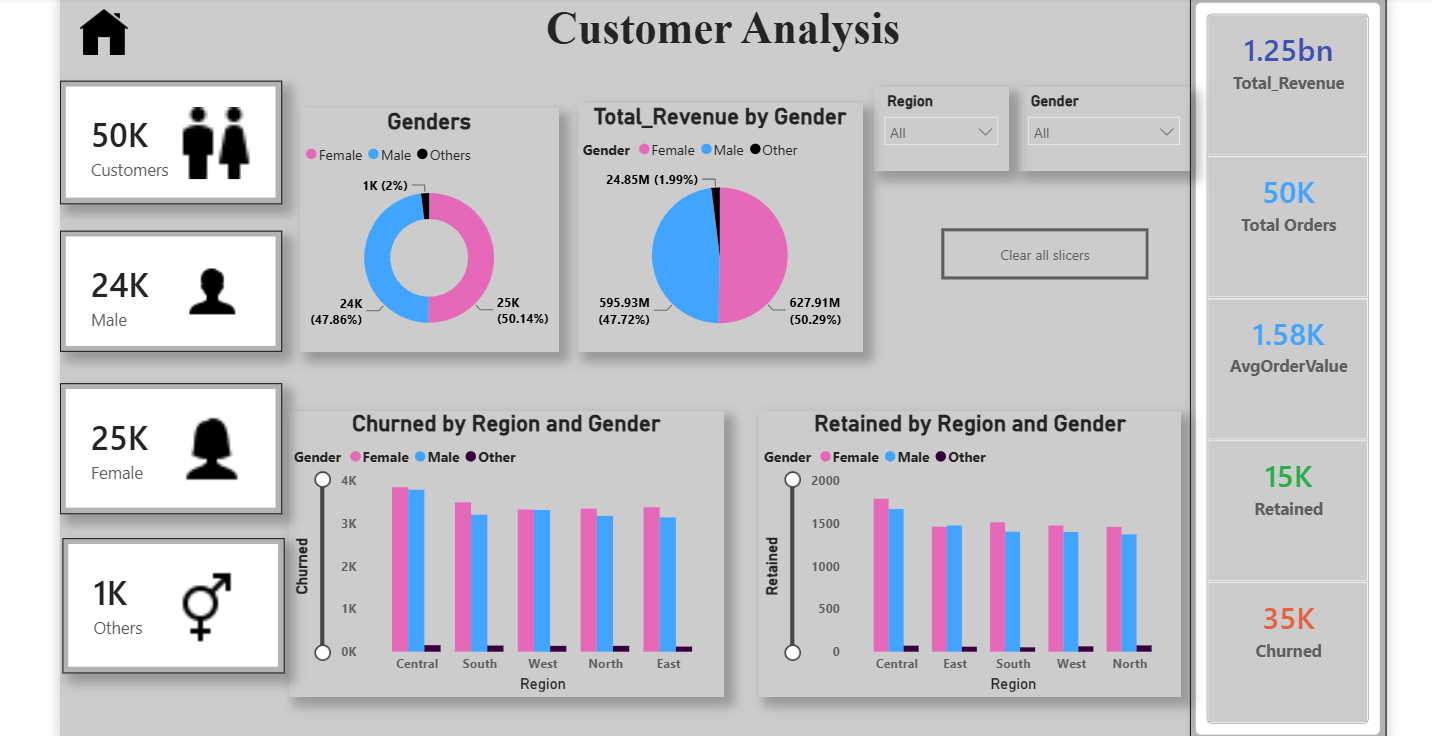

What the dashboard file says about the page in this screenshot:
{"tool":"powerbi","page":{"name":"Customer_Info","canvas":[1280,720],"ordinal":1},"visuals":[{"type":"textbox","box":[0,0,1280,68.8],"z":0},{"type":"cardVisual","fields":{"Data":["Dax.Male_Customers"]},"box":[0,225.6,214.7,117],"z":1000},{"type":"cardVisual","fields":{"Data":["Dax.Total_Customer"]},"box":[0,80.8,214.7,119.4],"z":2000},{"type":"cardVisual","fields":{"Data":["Dax.Female_Customers"]},"box":[0,372.8,214.7,126.7],"z":3000},{"type":"cardVisual","fields":{"Data":["Dax.Others"]},"box":[2.4,522.4,214.7,130.3],"z":4000},{"type":"image","box":[119.4,253.4,55.5,61.5],"z":5000},{"type":"image","box":[115.8,106.2,70,70],"z":6000},{"type":"image","box":[107.4,399.3,78.4,73.6],"z":7000},{"type":"image","box":[76,548.9,129.1,77.2],"z":8000},{"type":"donutChart","title":"Genders","fields":{"Y":["Dax.Female","Dax.Male","Dax.Others"]},"box":[231.6,107.4,249.7,235.3],"z":9000},{"type":"cardVisual","fields":{"Data":["Dax.Total_Revenue","Dax.Total Orders","Dax.AvgOrderValue","Dax.Churned","Dax.Non Churned"]},"box":[1090.6,0,189.4,720.2],"z":10000},{"type":"clusteredColumnChart","fields":{"Category":["churn_info.Region"],"Series":["churn_info.Gender"],"Y":["Dax.Churned"]},"box":[220.8,399.3,419.8,276.3],"z":11000},{"type":"pieChart","fields":{"Category":["churn_info.Gender"],"Y":["Dax.Total_Revenue"]},"box":[499.5,102.5,275.1,240.1],"z":12000},{"type":"clusteredColumnChart","fields":{"Category":["churn_info.Region"],"Series":["churn_info.Gender"],"Y":["Dax.Retained"]},"box":[674.4,399.3,407.8,276.3],"z":13000},{"type":"slicer","fields":{"Values":["churn_info.Region"]},"box":[785.4,86.9,130.3,80.8],"z":14000},{"type":"slicer","fields":{"Values":["churn_info.Gender"]},"box":[924.1,86.9,166.5,80.8],"z":15000},{"type":"image","box":[2.4,10.9,79.6,48.3],"z":16000},{"type":"actionButton","box":[850.5,223.2,200.3,49.5],"z":17000}]}

Visuals, with their boxes on the page's 1280x720 design canvas (x1, y1, x2, y2). These are canvas units, not pixel positions in the 1432x736 screenshot, which may show the page scaled, cropped or inside an application window:
textbox: [x1=0, y1=0, x2=1280, y2=69]
cardVisual - Dax.Male_Customers: [x1=0, y1=226, x2=215, y2=343]
cardVisual - Dax.Total_Customer: [x1=0, y1=81, x2=215, y2=200]
cardVisual - Dax.Female_Customers: [x1=0, y1=373, x2=215, y2=500]
cardVisual - Dax.Others: [x1=2, y1=522, x2=217, y2=653]
image: [x1=119, y1=253, x2=175, y2=315]
image: [x1=116, y1=106, x2=186, y2=176]
image: [x1=107, y1=399, x2=186, y2=473]
image: [x1=76, y1=549, x2=205, y2=626]
"Genders" donutChart: [x1=232, y1=107, x2=481, y2=343]
cardVisual - Dax.Total_Revenue x Dax.Total Orders: [x1=1091, y1=0, x2=1280, y2=720]
clusteredColumnChart - churn_info.Region x churn_info.Gender: [x1=221, y1=399, x2=641, y2=676]
pieChart - churn_info.Gender x Dax.Total_Revenue: [x1=500, y1=102, x2=775, y2=343]
clusteredColumnChart - churn_info.Region x churn_info.Gender: [x1=674, y1=399, x2=1082, y2=676]
slicer - churn_info.Region: [x1=785, y1=87, x2=916, y2=168]
slicer - churn_info.Gender: [x1=924, y1=87, x2=1091, y2=168]
image: [x1=2, y1=11, x2=82, y2=59]
actionButton: [x1=850, y1=223, x2=1051, y2=273]
